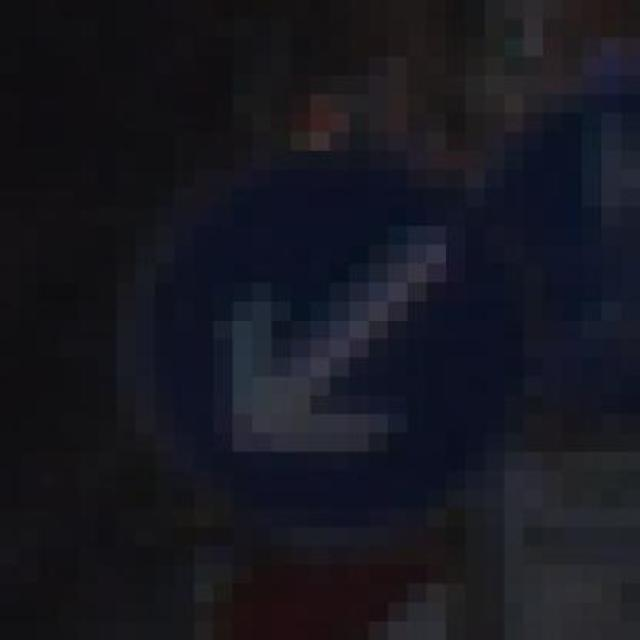Keep-Left: (97, 94, 543, 546)
